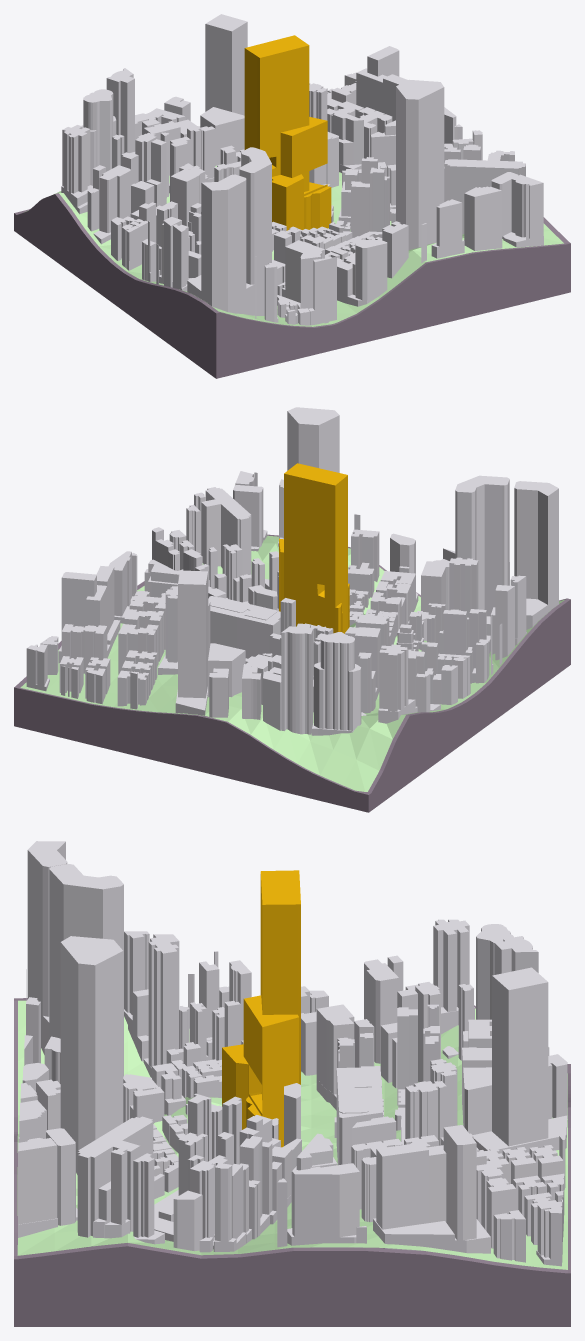
Rendered from newmodel4.glb.
The picture shows the model from 3 angles, top to bottom: view 1: azimuth 30°, elevation 25°; view 2: azimuth 150°, elevation 25°; view 3: azimuth 270°, elevation 25°; orthographic projection. The views are drawn at different scales.
Visible parts, largest first — view 1: Model, Group679, Group518, Group680, Group304, Group215, Group43, Group678, Group224, Group357, Group154, Group25 (+44 smaller); view 2: Model, Group678, Group680, Group679, Group215, Group304, Group43, Group636, Group518, Group357, Group172, Group82 (+45 smaller); view 3: Group679, Group518, Group678, Group43, Model, Group215, Group680, Group224, Group45, Group357, Group196, Group304 (+66 smaller).
Part boxes in pixels (x1=…): Model: x1=14, y1=208, x2=570, y2=378; Group679: x1=15, y1=193, x2=568, y2=372; Group518: x1=396, y1=79, x2=444, y2=249; Group680: x1=244, y1=35, x2=309, y2=176; Group304: x1=201, y1=174, x2=246, y2=314; Group215: x1=239, y1=147, x2=271, y2=315; Group43: x1=205, y1=14, x2=247, y2=115; Group678: x1=24, y1=165, x2=563, y2=326; Group224: x1=280, y1=117, x2=327, y2=196; Group357: x1=444, y1=154, x2=525, y2=234; Group154: x1=464, y1=186, x2=502, y2=250; Group25: x1=285, y1=240, x2=324, y2=308; Model: x1=14, y1=534, x2=570, y2=812; Group678: x1=20, y1=535, x2=564, y2=791; Group680: x1=284, y1=463, x2=347, y2=633; Group679: x1=15, y1=581, x2=569, y2=806; Group215: x1=455, y1=475, x2=509, y2=616; Group304: x1=514, y1=481, x2=558, y2=612; Group43: x1=178, y1=570, x2=208, y2=698; Group636: x1=281, y1=623, x2=313, y2=734; Group518: x1=287, y1=407, x2=339, y2=472; Group357: x1=201, y1=487, x2=251, y2=575; Group172: x1=314, y1=662, x2=361, y2=730; Group82: x1=208, y1=596, x2=280, y2=658; Group679: x1=17, y1=998, x2=567, y2=1320; Group518: x1=60, y1=936, x2=123, y2=1174; Group678: x1=17, y1=1000, x2=567, y2=1269; Group43: x1=492, y1=967, x2=548, y2=1146; Model: x1=14, y1=998, x2=570, y2=1326; Group215: x1=49, y1=864, x2=123, y2=1076; Group680: x1=260, y1=870, x2=300, y2=1072; Group224: x1=243, y1=995, x2=298, y2=1146; Group45: x1=292, y1=1163, x2=359, y2=1247; Group357: x1=77, y1=1116, x2=153, y2=1248; Group196: x1=376, y1=1142, x2=428, y2=1229; Group304: x1=27, y1=841, x2=67, y2=1050.
Bounding box in the file's own units: 32.52 × 19.52 × 32.11.
